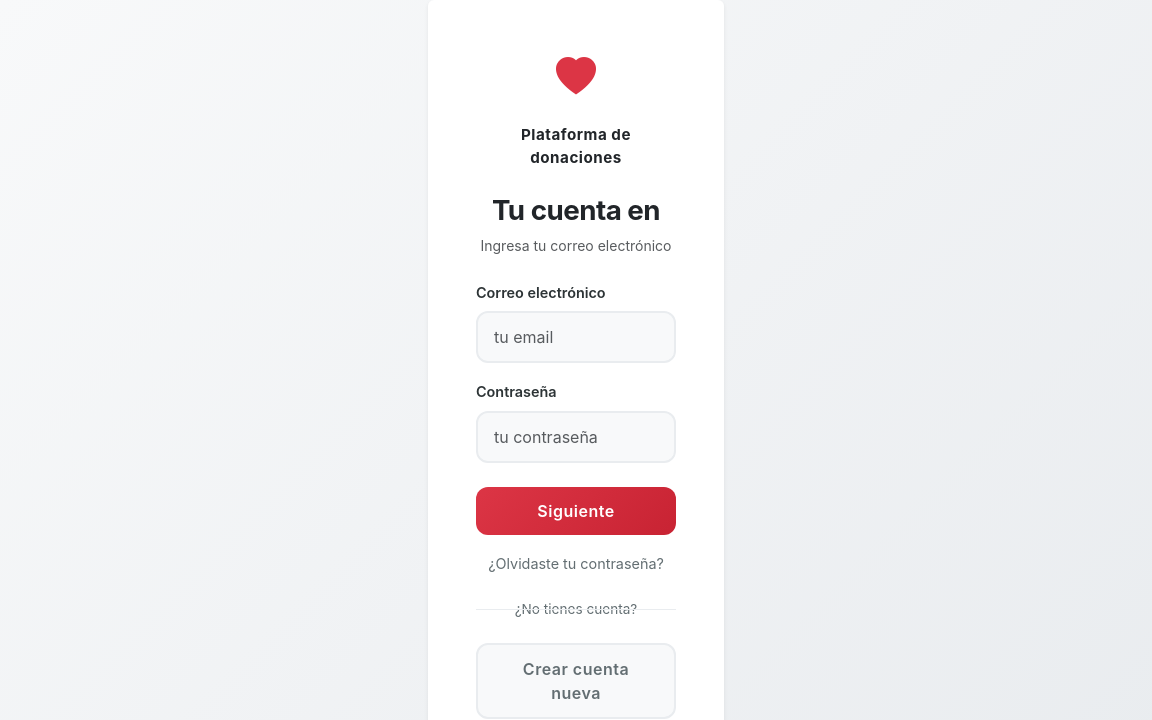
LoginPage › shows validation errors for empty fields
Click the button "Siguiente".
click(576, 511)  # box left=476, top=487, right=676, bottom=535
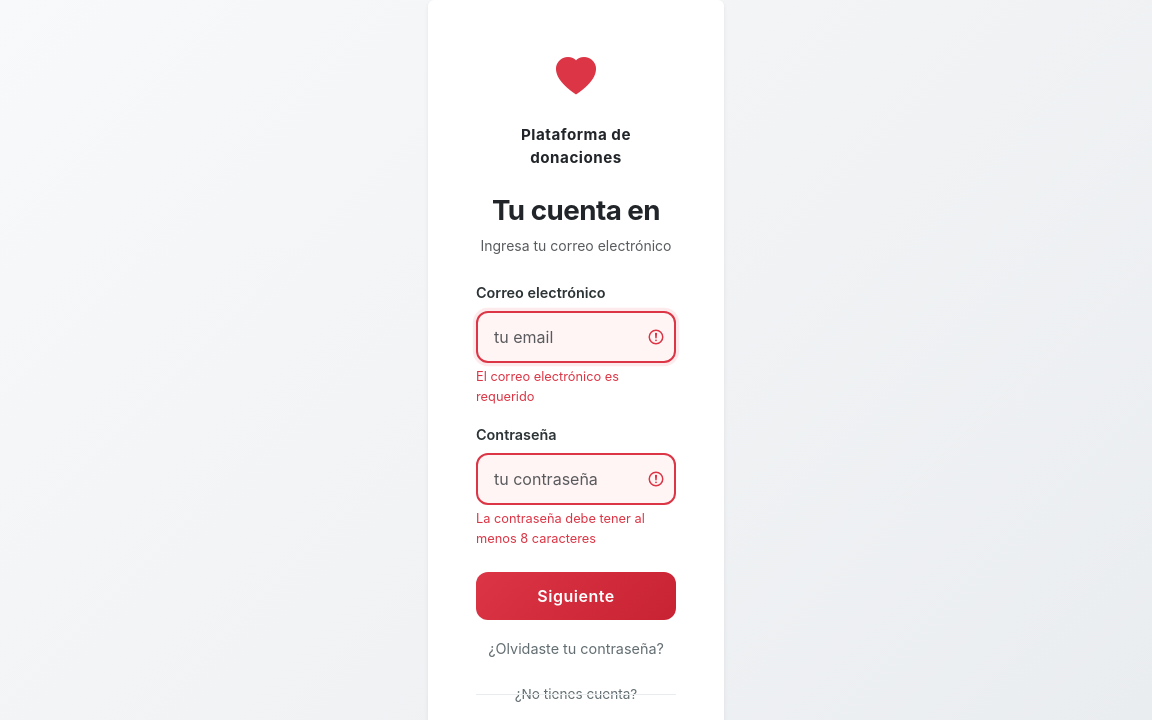
Check: the text "El correo electrónico es requerido" is shown, box left=476, top=370, right=619, bottom=404
Check: the text "La contraseña debe tener al menos 8 caracteres" is shown, box left=476, top=511, right=645, bottom=546
